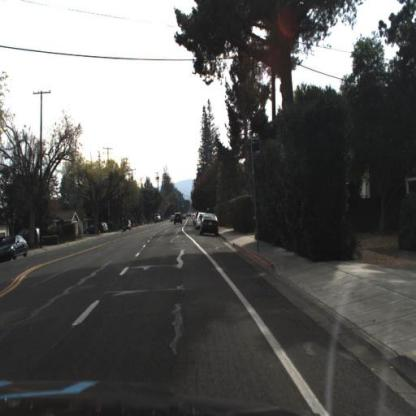car: (1, 234, 30, 264), (200, 213, 221, 237), (121, 218, 135, 234)
